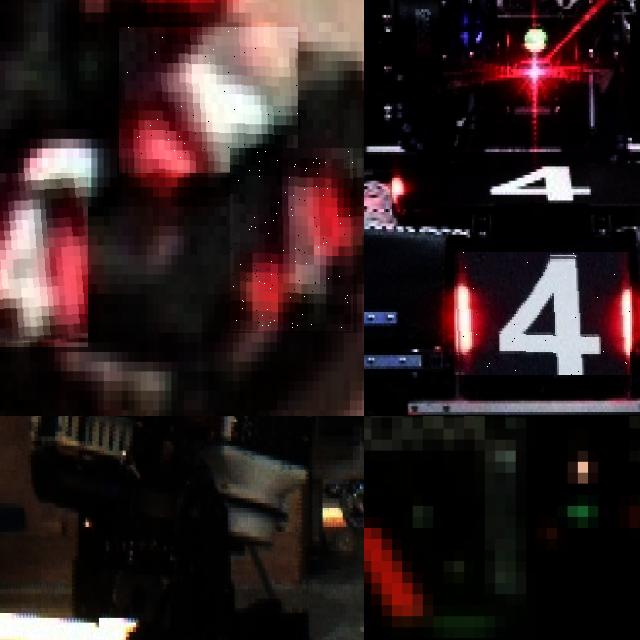R4: (119, 27, 298, 173), (230, 148, 353, 332), (454, 252, 630, 375), (0, 172, 88, 347)
